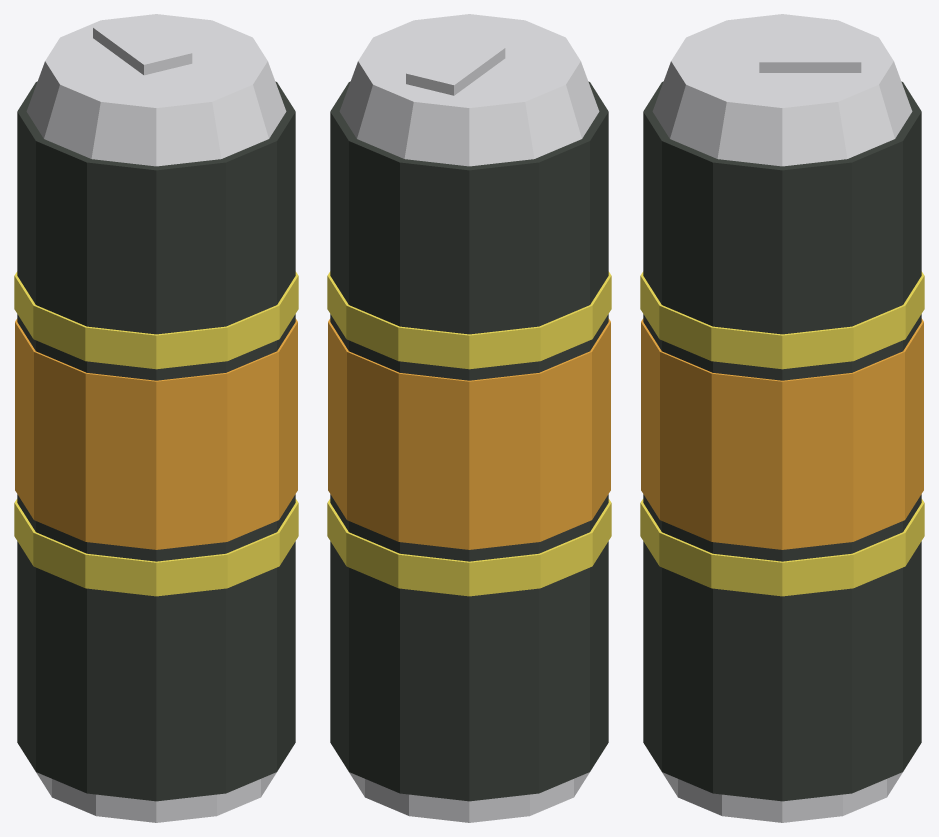
File: energy_can.glb
3 renders of one model, left to right at view 1: azimuth 30°, elevation 25°; view 2: azimuth 150°, elevation 25°; view 3: azimuth 270°, elevation 25°, orthographic.
Visible parts, largest first — view 1: energy_can; view 2: energy_can; view 3: energy_can.
Boxes of the visible parts, left/top/right/bottom form: energy_can: left=14, top=14, right=298, bottom=822; energy_can: left=327, top=14, right=611, bottom=822; energy_can: left=640, top=14, right=924, bottom=822.
Bounding box in the file's own units: 0.0612 × 0.1715 × 0.0612.
